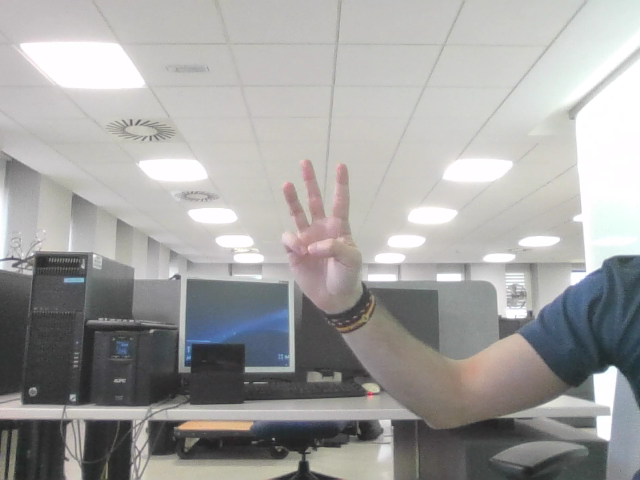3Dedos: (292, 171, 349, 276)
